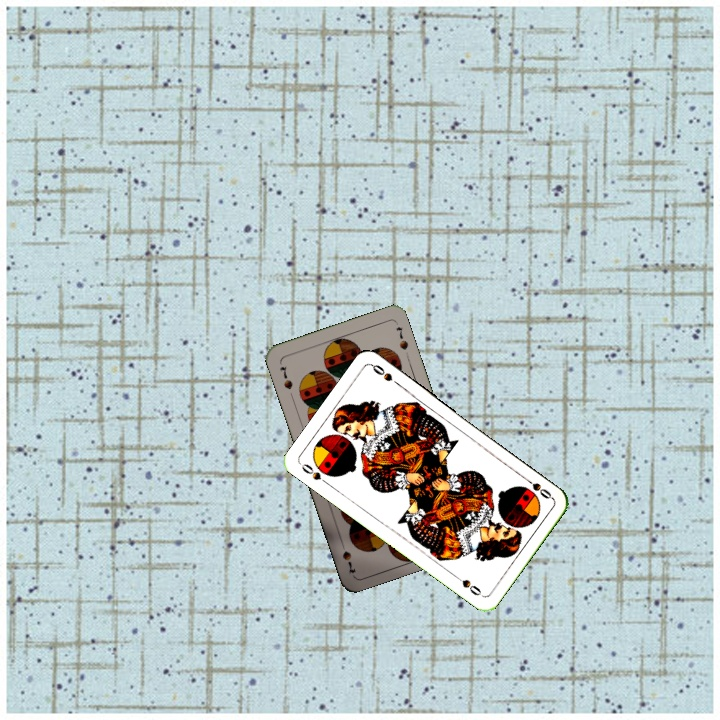S7: (276, 362, 295, 392)
SO: (520, 473, 555, 502), (297, 459, 332, 488)
